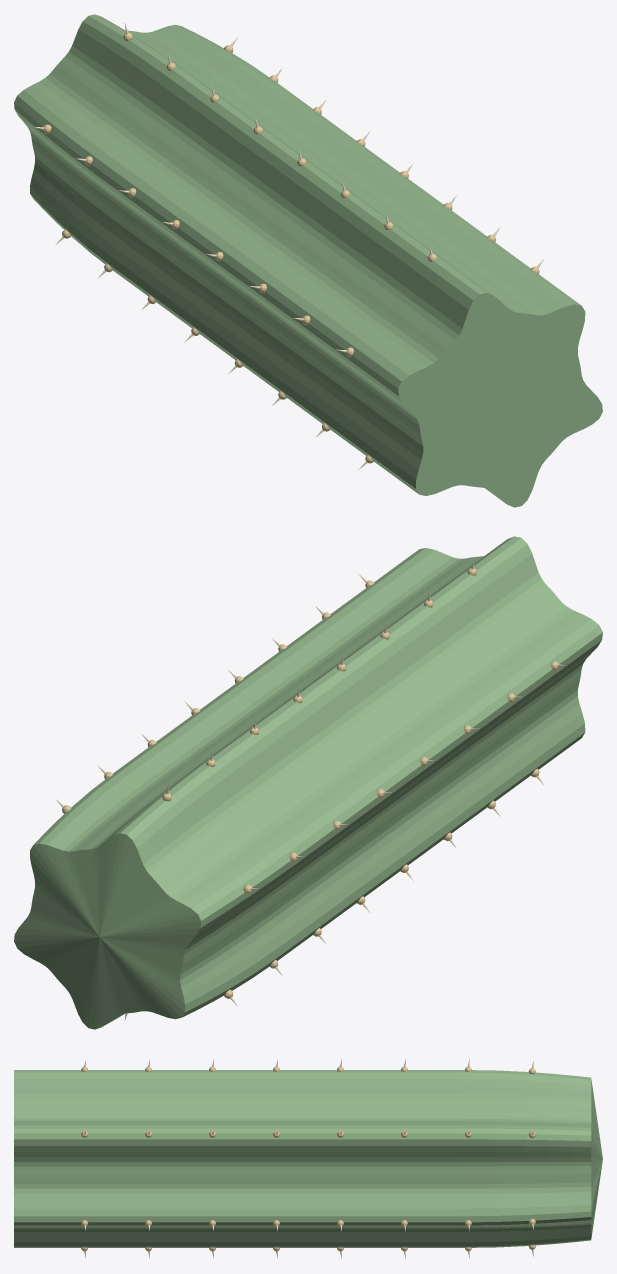
The model's file is pachanoi-geometry-nodes-frame2.glb.
3 renders of one model, top to bottom at view 1: azimuth 30°, elevation 25°; view 2: azimuth 150°, elevation 25°; view 3: azimuth 270°, elevation 25°, orthographic. The views are drawn at different scales.
Visible parts, largest first — view 1: WACHUMA_Pachanoi_GN_Baked; view 2: WACHUMA_Pachanoi_GN_Baked; view 3: WACHUMA_Pachanoi_GN_Baked.
Part boxes in pixels (left/top/right/bottom): WACHUMA_Pachanoi_GN_Baked: left=14, top=14, right=602, bottom=507; WACHUMA_Pachanoi_GN_Baked: left=14, top=536, right=602, bottom=1029; WACHUMA_Pachanoi_GN_Baked: left=14, top=1058, right=602, bottom=1259.
Size of the model in its own units: 0.8669 by 0.9041 by 2.6.
